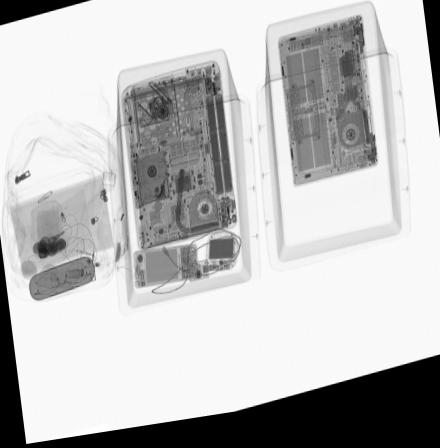Powerbank: (207, 243, 237, 276)
